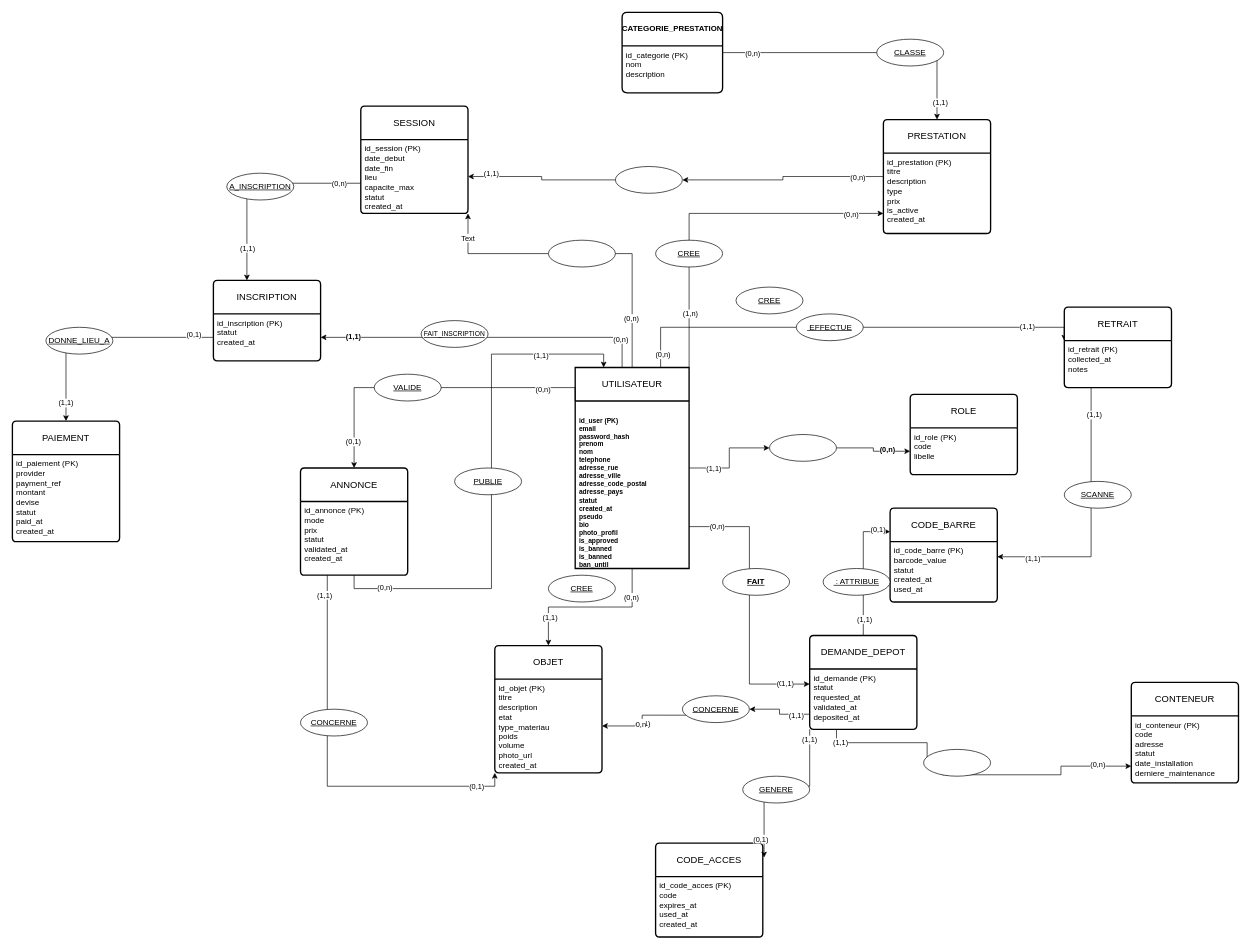
Some shapes in this 1250 by 949 pixel diagram are drawn without their labels. The centre of each missing label's shape, as x and y in pixels:
"A_POUR_ROLE" belongs at (802,447).
"DEPOSE_DANS" belongs at (957,762).
"PROPOSE" belongs at (648,179).
"VALIDE_SESSION" belongs at (581,253).
